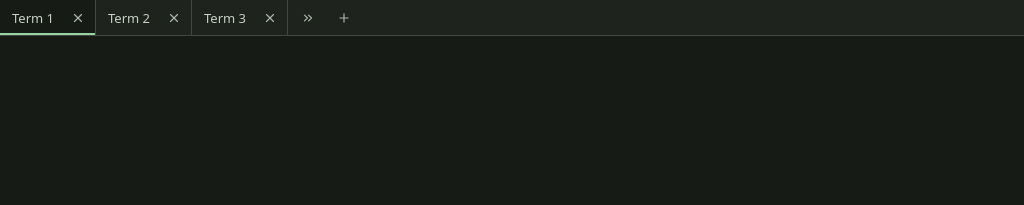
Test: Tab 条溢出布局（挤压 + overflow 菜单） › 溢出菜单：列出溢出 Tab，选中即激活并收起
The image size is (1024, 205).
Click the button with class "tabbar-overflow": (308, 18) [292, 6, 324, 28]
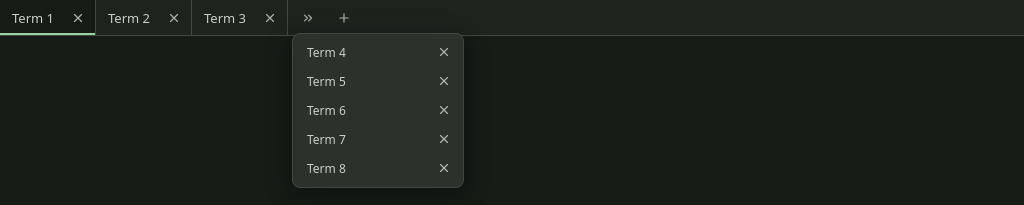
Check: the number of buttons with class "tab-overflow-item" is 5
Click the button with class "tab-overflow-item" showing "Term 5": (364, 81) [297, 66, 431, 96]
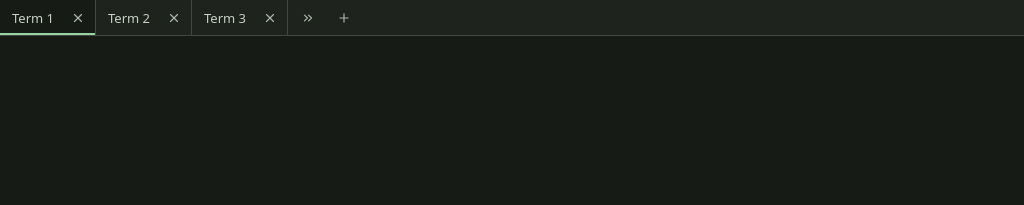
Check: the element with class "tab-overflow-menu" is gone
